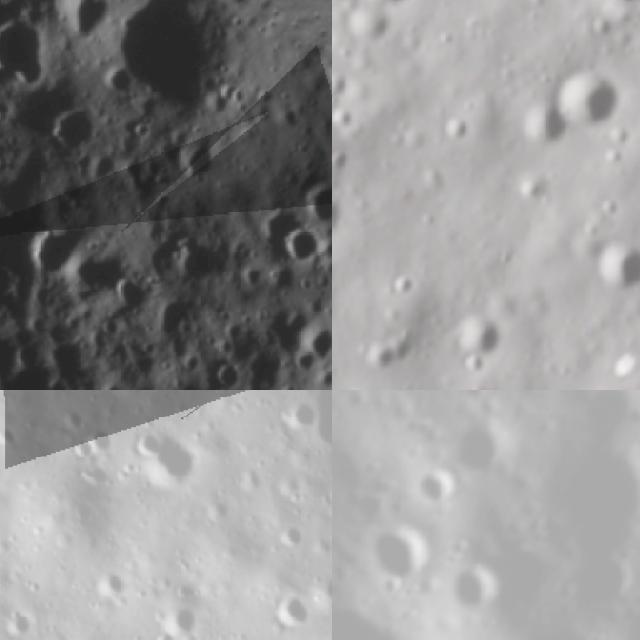crater: (75, 0, 273, 147), (545, 44, 640, 144), (0, 0, 82, 112), (30, 82, 121, 173), (6, 202, 96, 292), (539, 533, 640, 610), (123, 421, 210, 501), (511, 81, 592, 162), (355, 523, 443, 591), (332, 583, 432, 640), (37, 0, 137, 56), (448, 290, 522, 362), (581, 214, 640, 300), (334, 0, 413, 64), (269, 212, 332, 281), (103, 261, 164, 323), (447, 424, 511, 483), (285, 157, 332, 234), (444, 562, 505, 618), (285, 301, 332, 370), (260, 587, 318, 635), (419, 467, 461, 520), (152, 598, 203, 640), (512, 166, 558, 212), (340, 0, 440, 21), (275, 397, 324, 439), (332, 54, 370, 105), (441, 105, 485, 149), (88, 563, 131, 605), (77, 463, 121, 498), (269, 519, 312, 554), (386, 266, 423, 303), (0, 601, 35, 640), (69, 434, 100, 462), (332, 74, 345, 133), (314, 572, 332, 612), (60, 405, 86, 431), (332, 14, 344, 60), (0, 424, 18, 453)
